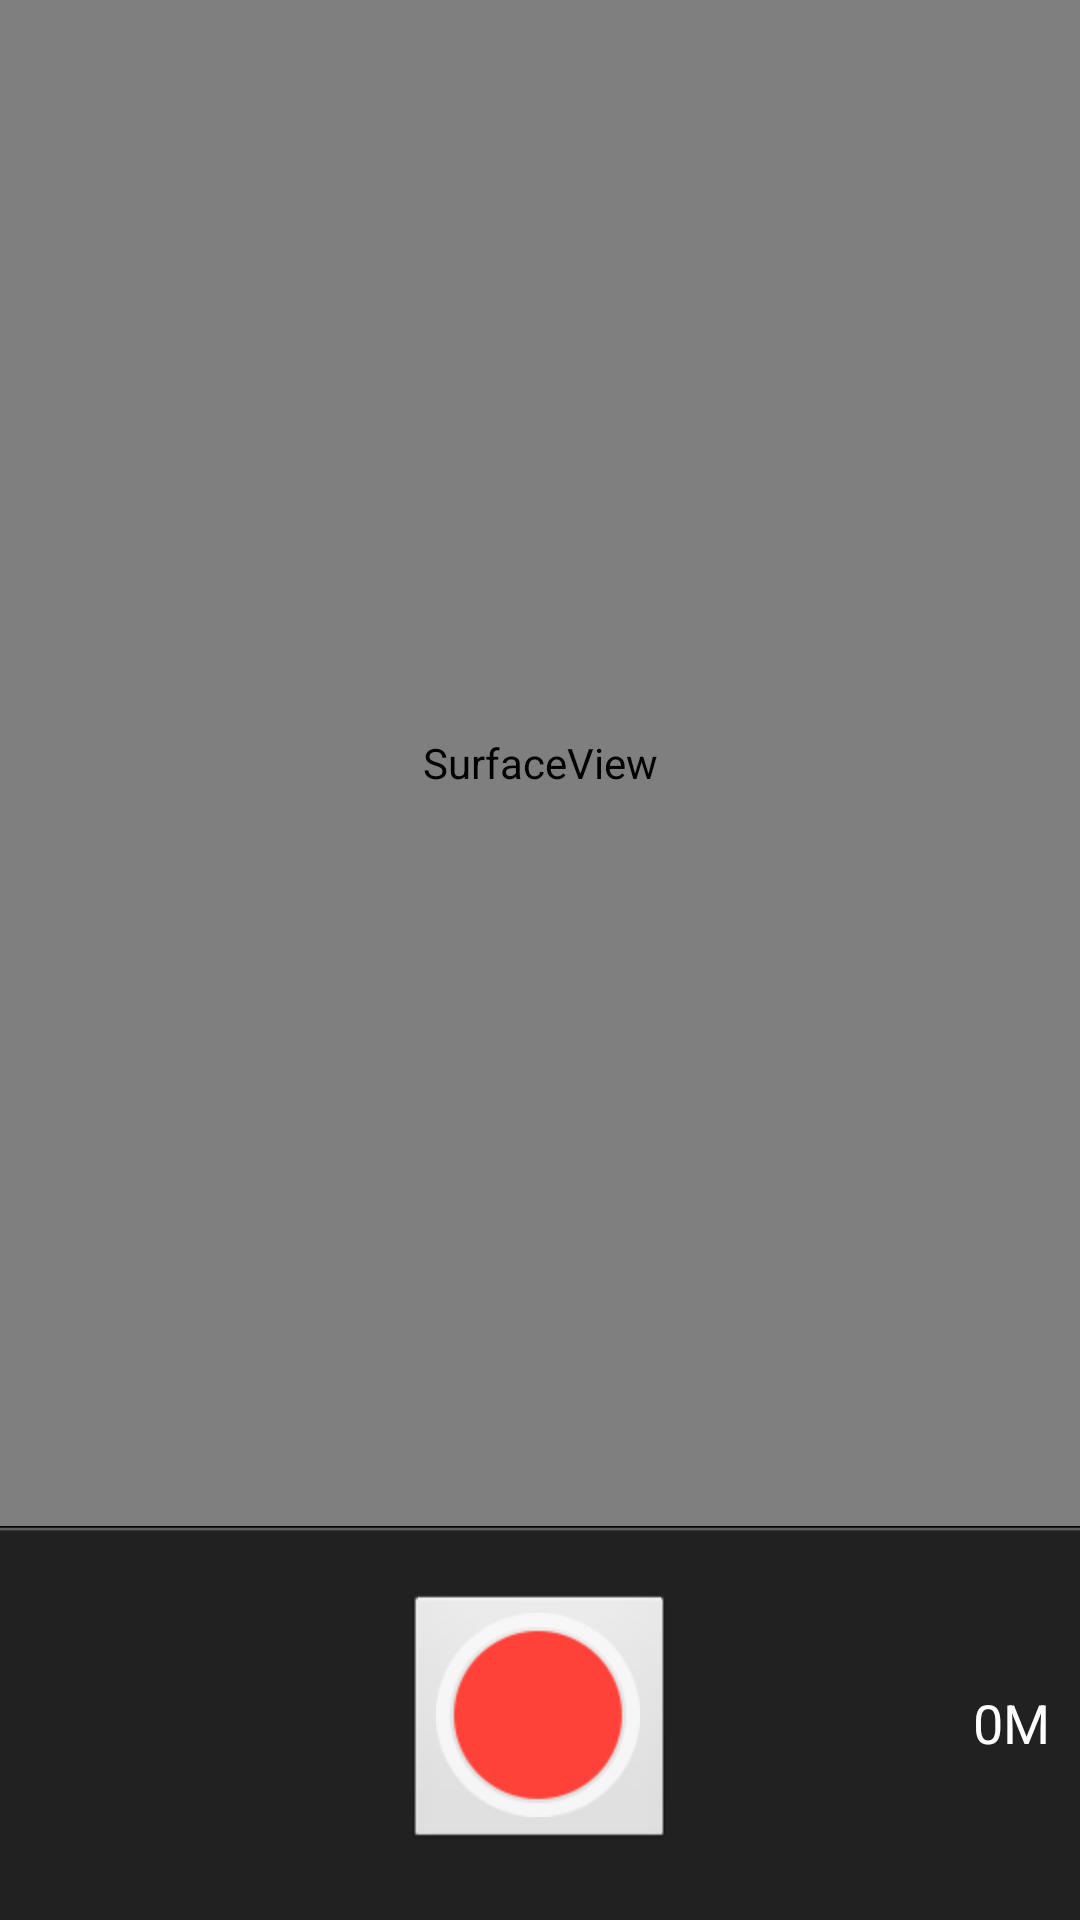

Locate icon controls on the screen. Image size 1080px x 1920px, boxes as (x1, y1, x2, y2).
start: (414, 1596, 664, 1836)
